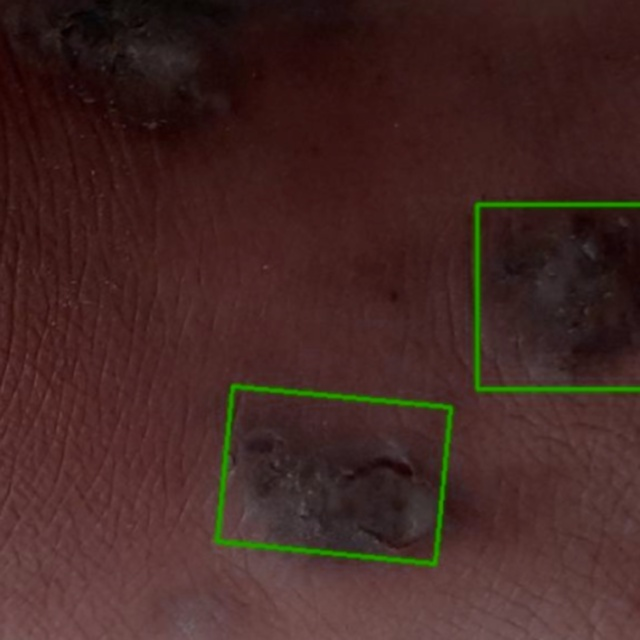Contact Dermatitis: (217, 387, 450, 563), (477, 204, 639, 389)
